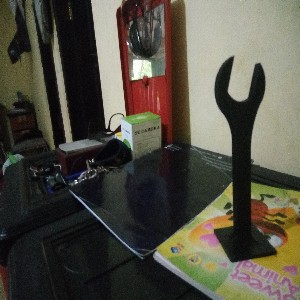spanner: (213, 55, 278, 264)
